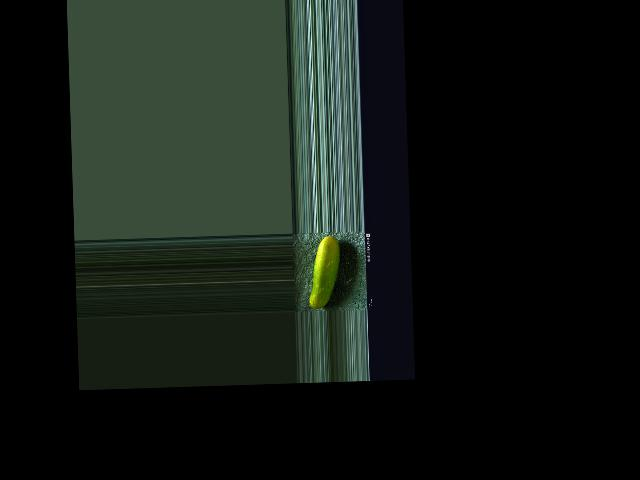cucumber: (307, 235, 341, 309)
